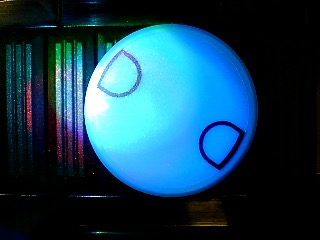MIPO2: (83, 22, 259, 198)
